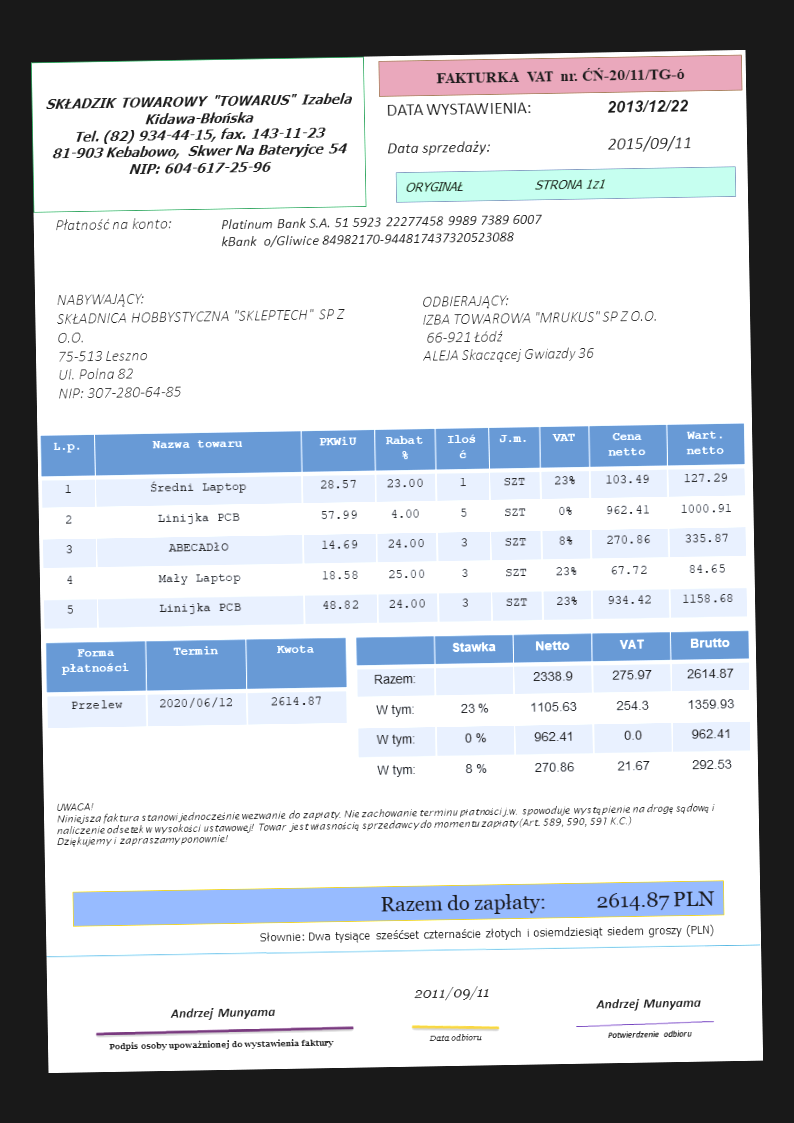Table: (38, 422, 749, 631), (353, 627, 754, 792), (44, 636, 349, 730)
TextBox: (54, 788, 720, 849), (53, 284, 350, 403), (43, 87, 359, 181), (419, 287, 659, 367), (257, 919, 716, 950), (217, 210, 545, 252), (378, 884, 716, 919), (432, 63, 686, 88), (403, 172, 607, 196), (106, 1036, 335, 1053), (383, 95, 531, 121), (384, 135, 493, 159), (53, 213, 173, 234), (165, 1003, 281, 1022), (605, 131, 693, 155), (594, 995, 703, 1014), (604, 95, 691, 117), (410, 982, 491, 1003), (604, 1027, 692, 1042), (426, 1029, 485, 1047)
